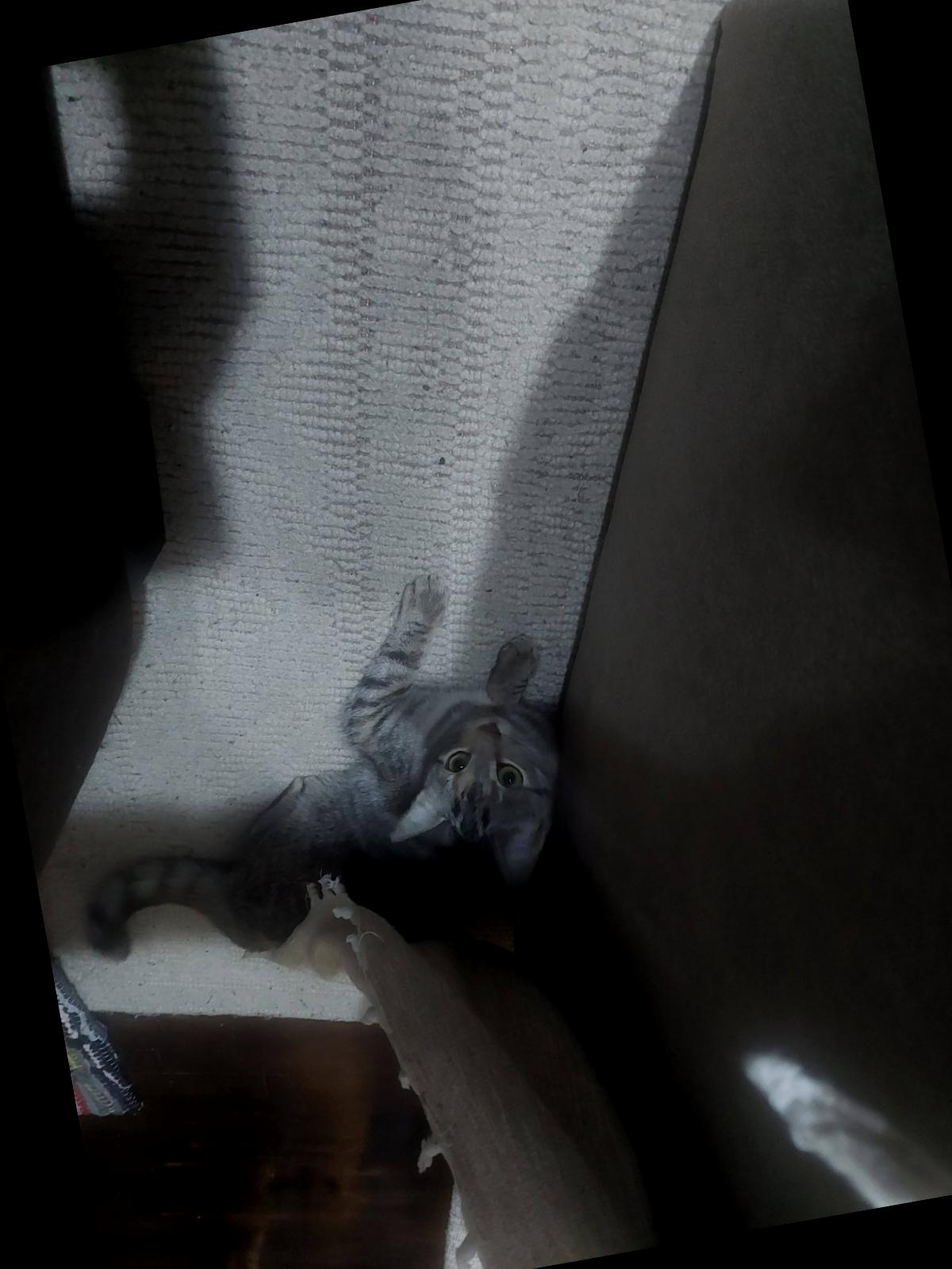macka: (32, 562, 592, 985)
